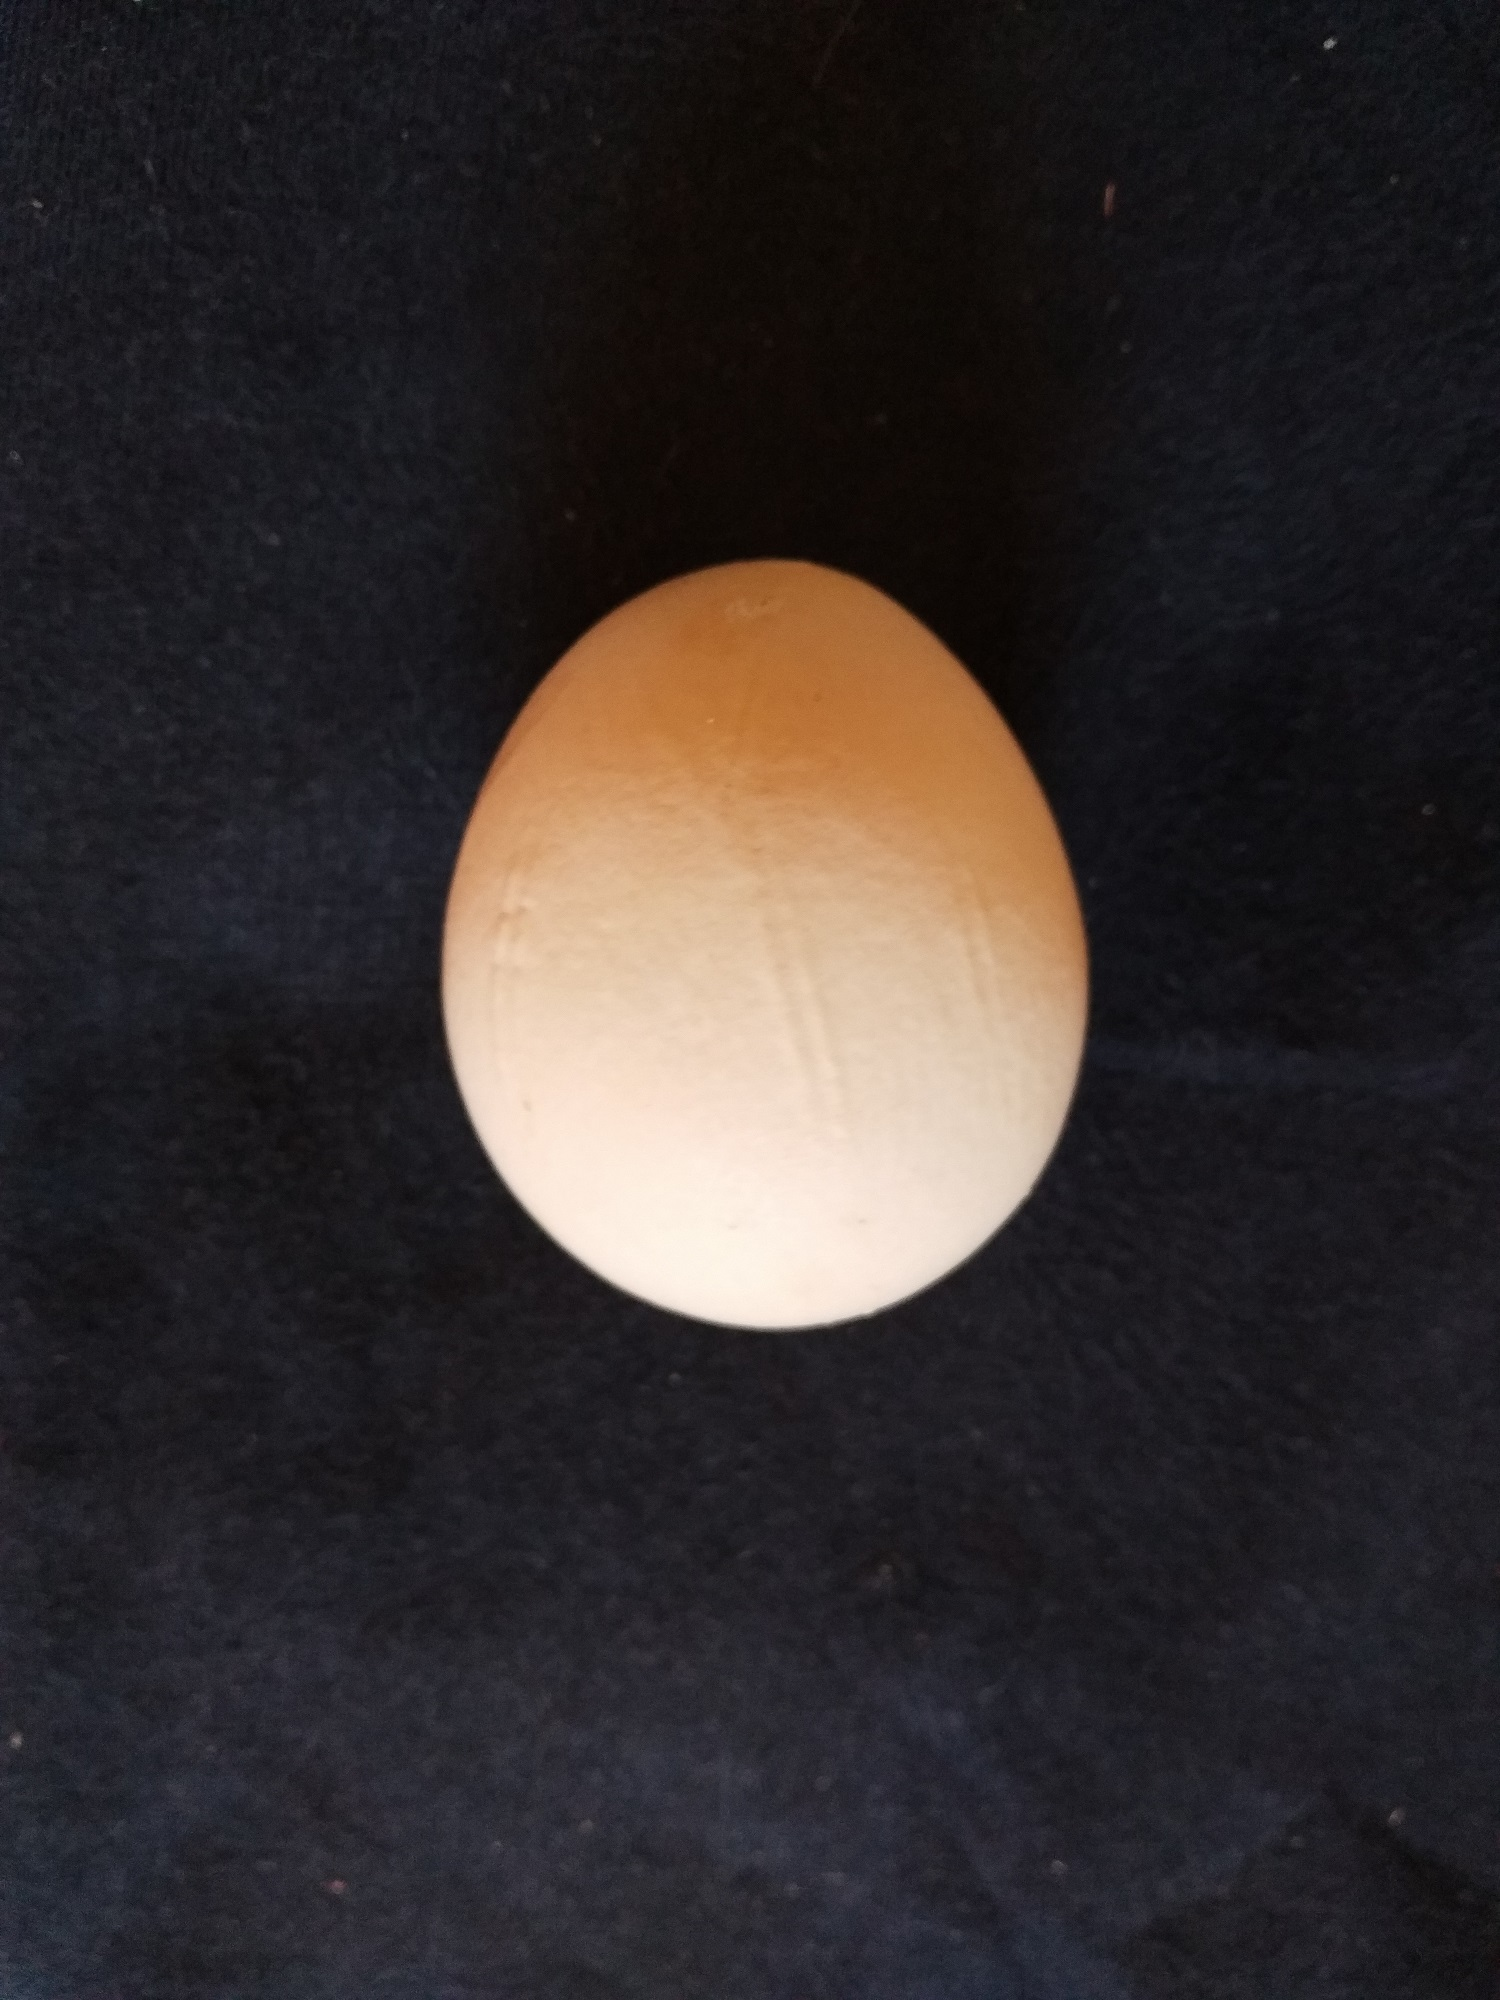Female: (438, 550, 1095, 1342)
